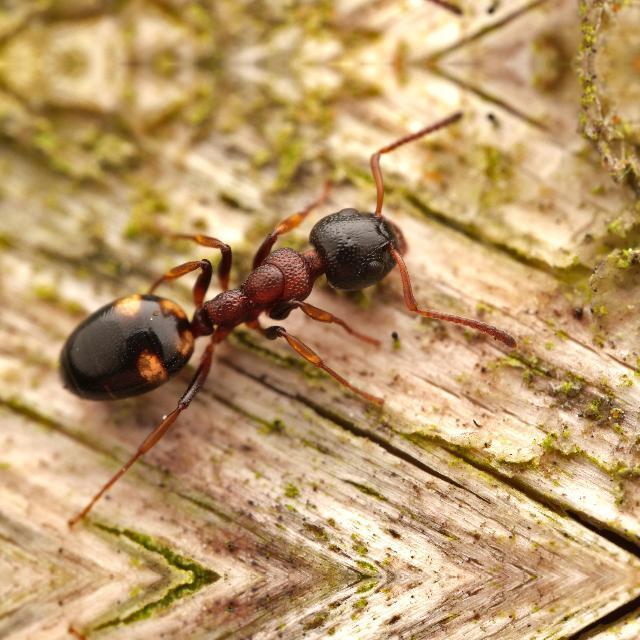Dolichoderus: (17, 150, 480, 444)
